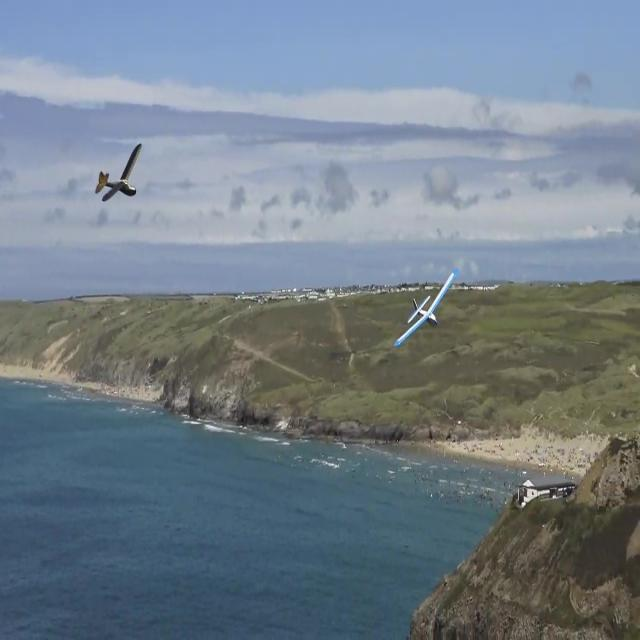iha: (31, 142, 78, 205), (425, 300, 427, 315)
